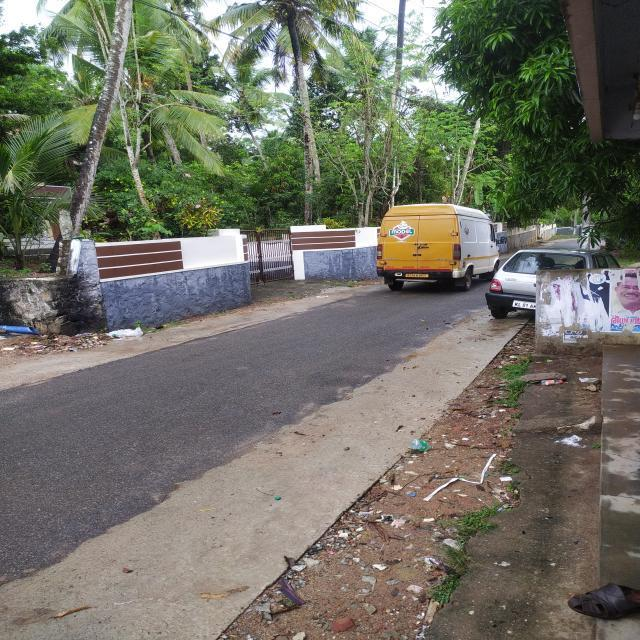car_back: (370, 198, 505, 302), (482, 238, 630, 326)
